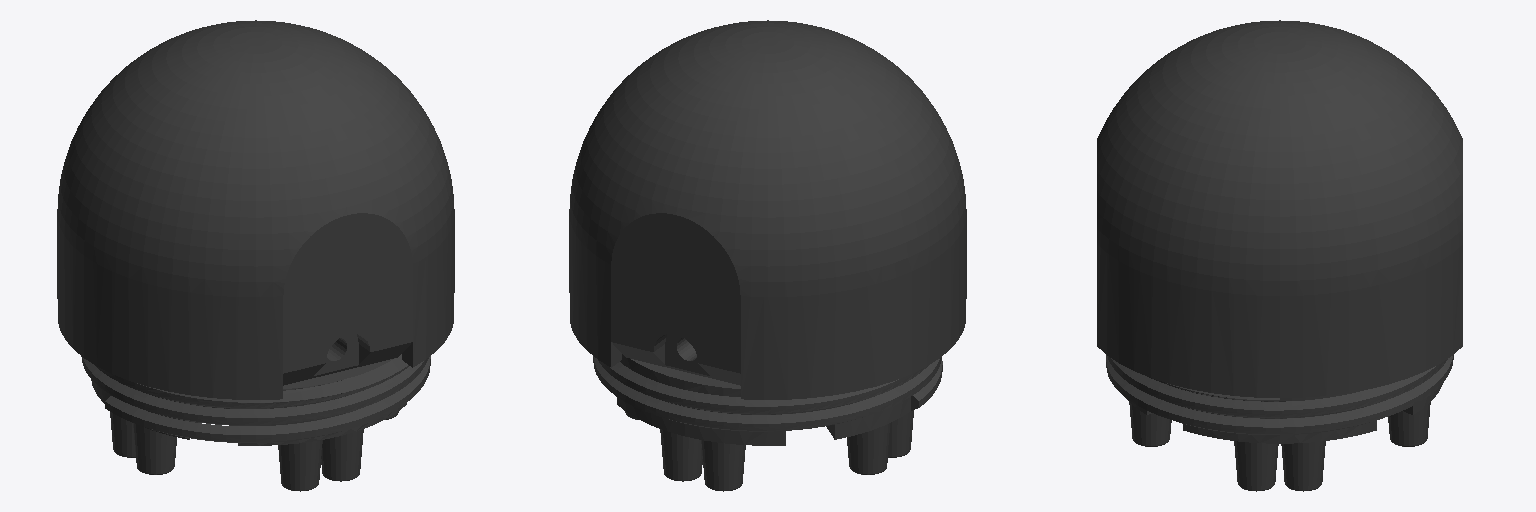
URDF robot description (fingertip_ver2):
<?xml version='1.0' encoding='UTF-8'?>
<robot name="fingertip_ver2">
  <link name="base_link">
    <inertial>
      <origin xyz="-0.0301116979399669 -0.00162877065316781 0.0144583185058832" rpy="0.0 -0.0 0.0"/>
      <mass value="0.015"/>
      <inertia ixx="3.99064440234687e-06" ixy="-3.82651084859449e-09" ixz="4.2626958925575e-09" iyy="3.9553152425591e-06" iyz="7.53210893362676e-09" izz="4.0084312676069e-06"/>
    </inertial>
    <visual>
      <geometry>
        <mesh filename="package://fingertip_ver2/meshes/base_link.dae"/>
      </geometry>
      <material name="__unnamed_material_1"/>
      <origin xyz="0.0 0.0 0.0" rpy="0.0 -0.0 0.0"/>
    </visual>
    <collision>
      <geometry>
        <mesh filename="package://fingertip_ver2/meshes/base_link.stl"/>
      </geometry>
      <origin xyz="0.0 0.0 0.0" rpy="0.0 -0.0 0.0"/>
    </collision>
  </link>
  <material name="__unnamed_material_1">
    <color rgba="0.29803922 0.29803922 0.29803922 1.        "/>
  </material>
</robot>

--- What the picture shows (computed from the rendered views, not written in the file) ---
The picture shows the robot from 3 angles, left to right: view 1: azimuth 30°, elevation 25°; view 2: azimuth 150°, elevation 25°; view 3: azimuth 270°, elevation 25°; orthographic projection.
Robot: fingertip_ver2 — 1 links, 0 joints (none); root link base_link; default pose: every joint at zero.
Visible links, largest first — view 1: base_link; view 2: base_link; view 3: base_link.
Boxes of the visible links, left/top/right/bottom form: base_link: left=57, top=20, right=454, bottom=491; base_link: left=569, top=20, right=966, bottom=491; base_link: left=1097, top=20, right=1462, bottom=491.
Bounding box of the posed robot: 0.0421 × 0.039 × 0.0455 m (x, y, z).
Meshes: 1 distinct files referenced, 1 mesh visuals loaded (1 Collada DAE).
